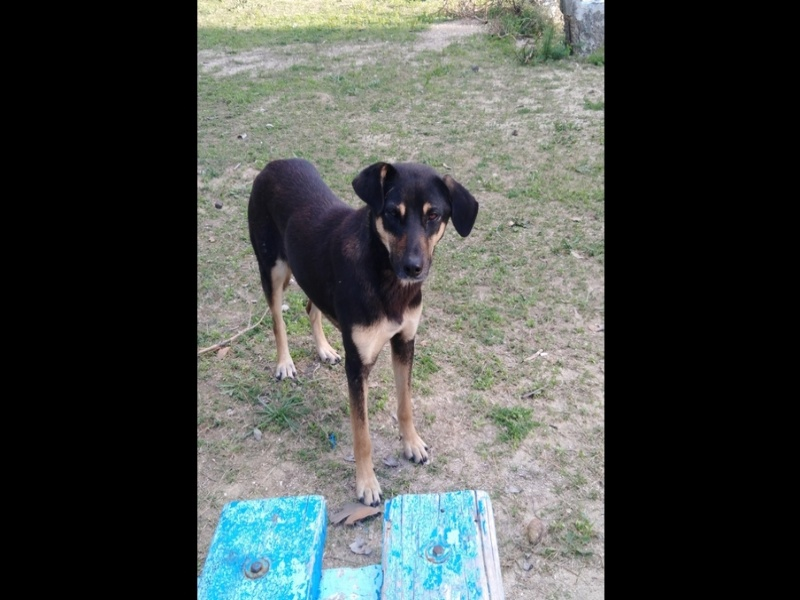dog: (244, 156, 481, 506)
